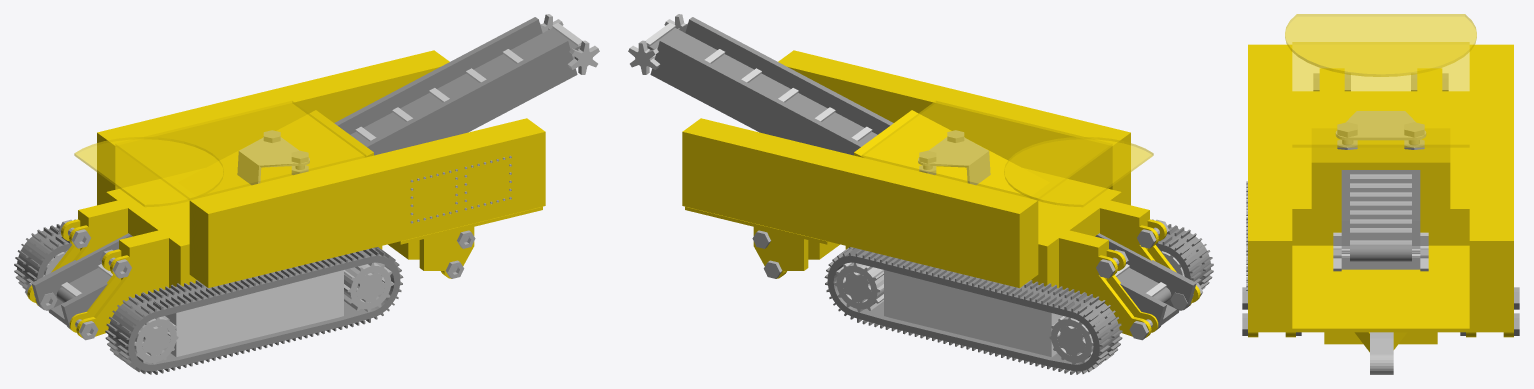
3 views of the same model, side by side, from view 1: azimuth 30°, elevation 25°; view 2: azimuth 150°, elevation 25°; view 3: azimuth 270°, elevation 25° (orthographic). The views are drawn at different scales.
Parts seen in each view (by area): view 1: 本体部两翼2, 新本体部, 盖板, 本体部两翼1, 新运输机, 轮带左, 轮子中间, 传输机刮板阵列, 电控箱, 后支撑部前横, 轮子左1, 轮带右 (+3 smaller); view 2: 本体部两翼1, 新本体部, 盖板, 本体部两翼2, 新运输机, 轮带右, 轮子中间, 传输机刮板阵列, 后支撑部前横, 轮子右1, 轮带左, 回转油缸柄上 (+3 smaller); view 3: 盖板, 新本体部, 后支撑部前横, 本体部两翼1, 本体部两翼2, 传输机刮板阵列, 新运输机, 回转油缸柄上, 第二运输机回转台, 运输机外侧驱动装置, 本体部油缸螺丝1, 本体部油缸螺丝螺丝2 (+2 smaller).
Boxes of the visible parts, <box> form: 本体部两翼2: <box>189,118,545,287</box>; 新本体部: <box>27,110,382,337</box>; 盖板: <box>74,101,366,207</box>; 本体部两翼1: <box>97,50,449,205</box>; 新运输机: <box>31,17,577,330</box>; 轮带左: <box>105,247,403,374</box>; 轮子中间: <box>165,270,343,357</box>; 传输机刮板阵列: <box>56,23,582,302</box>; 电控箱: <box>410,156,511,222</box>; 后支撑部前横: <box>388,206,542,278</box>; 轮子左1: <box>344,262,394,312</box>; 轮带右: <box>14,219,75,289</box>; 本体部两翼1: <box>682,118,1038,287</box>; 新本体部: <box>845,110,1200,337</box>; 盖板: <box>861,101,1153,207</box>; 本体部两翼2: <box>778,50,1130,205</box>; 新运输机: <box>650,17,1196,330</box>; 轮带右: <box>824,247,1122,374</box>; 轮子中间: <box>884,270,1062,357</box>; 传输机刮板阵列: <box>645,23,1171,302</box>; 后支撑部前横: <box>685,206,839,278</box>; 轮子右1: <box>834,262,883,312</box>; 轮带左: <box>1152,219,1213,289</box>; 回转油缸柄上: <box>918,137,990,184</box>; 盖板: <box>1285,14,1476,147</box>; 新本体部: <box>1292,68,1469,245</box>; 后支撑部前横: <box>1248,245,1513,352</box>; 本体部两翼1: <box>1469,44,1513,329</box>; 本体部两翼2: <box>1248,44,1292,329</box>; 传输机刮板阵列: <box>1350,170,1411,261</box>; 新运输机: <box>1341,170,1420,269</box>; 回转油缸柄上: <box>1335,111,1426,140</box>; 第二运输机回转台: <box>1370,332,1393,374</box>; 运输机外侧驱动装置: <box>1333,232,1428,271</box>; 本体部油缸螺丝1: <box>1404,122,1424,149</box>; 本体部油缸螺丝螺丝2: <box>1337,122,1357,149</box>.
Size of the model in its own units: 7.13 by 2.5 by 2.7.
